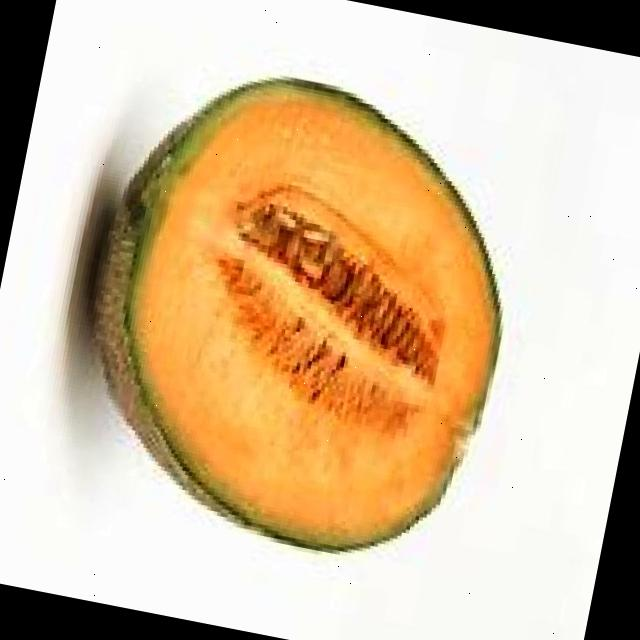Hami Melon: (41, 41, 548, 578)
